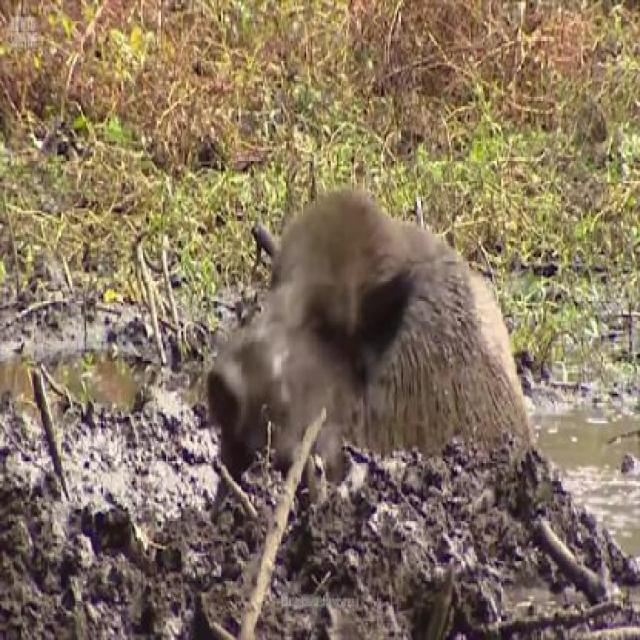pig: (172, 160, 548, 487)
